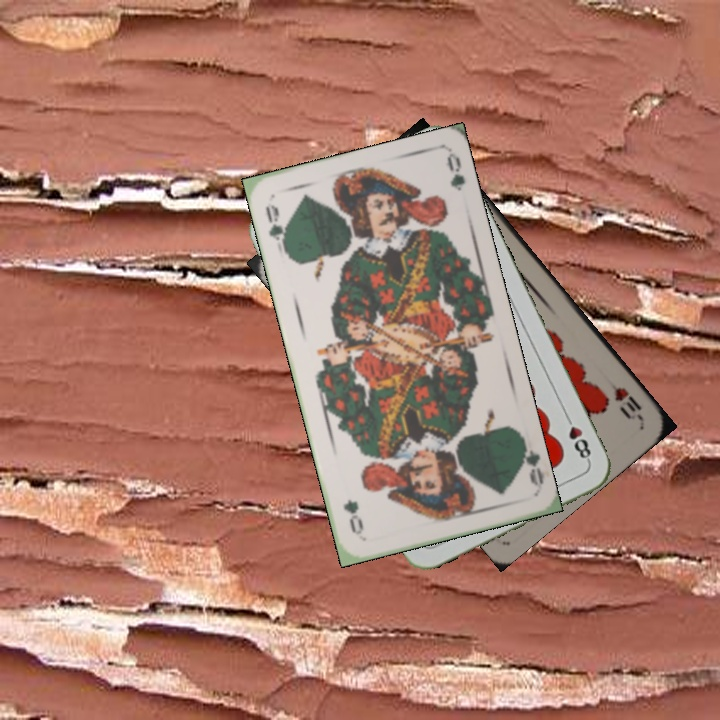GO: (515, 432, 546, 490), (261, 201, 291, 255)
H10: (603, 374, 645, 422)
H8: (560, 410, 594, 465)
